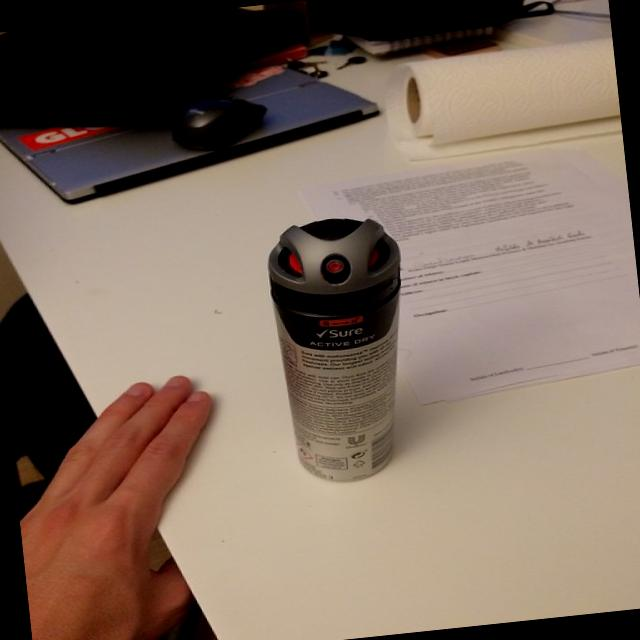Recycle: (305, 150, 640, 412), (259, 208, 425, 490), (383, 38, 623, 164)
